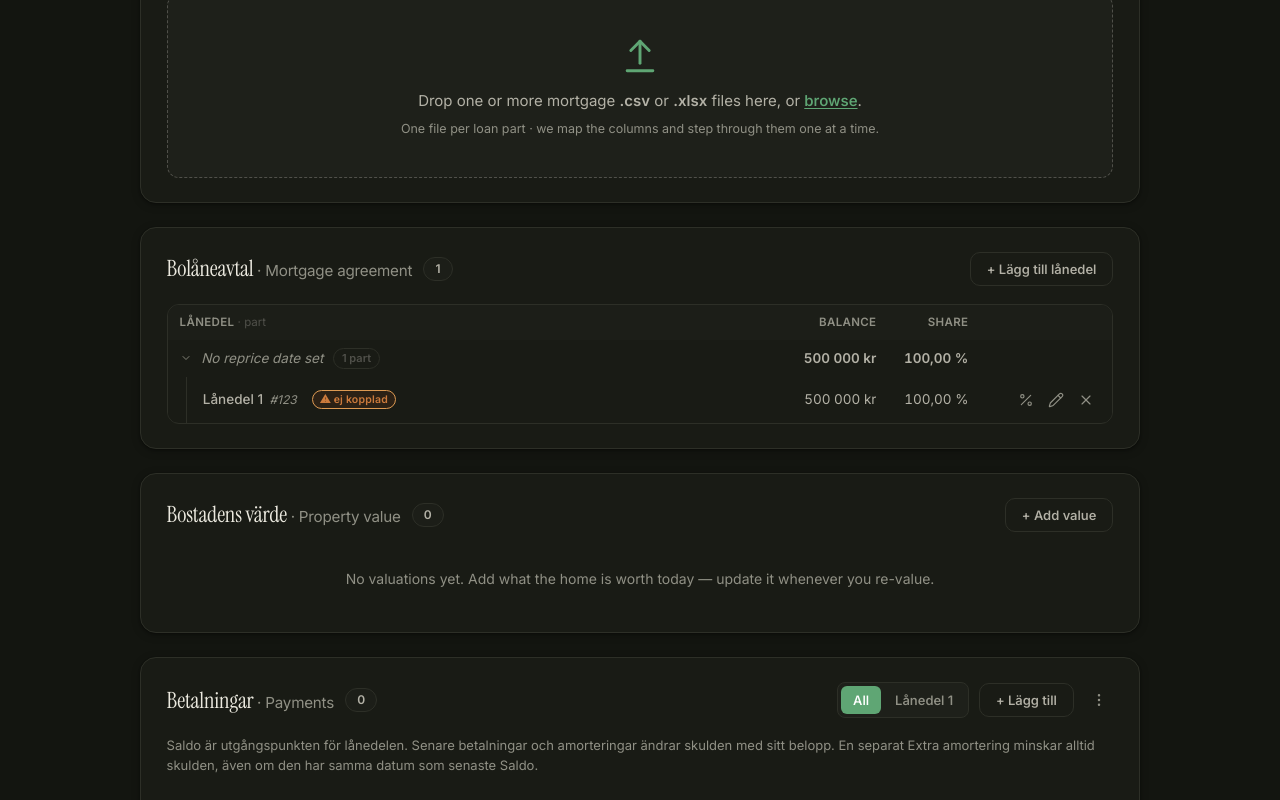
Test case: Bolanekoll — save failures surface to the user (regression for audit H2 / PR #237) › shows the failure and retains the loan part when atomic deletion rejects
(page scrolled)
Click the button named "Ta bort". click: (1086, 400)
box: [1072, 386, 1100, 414]
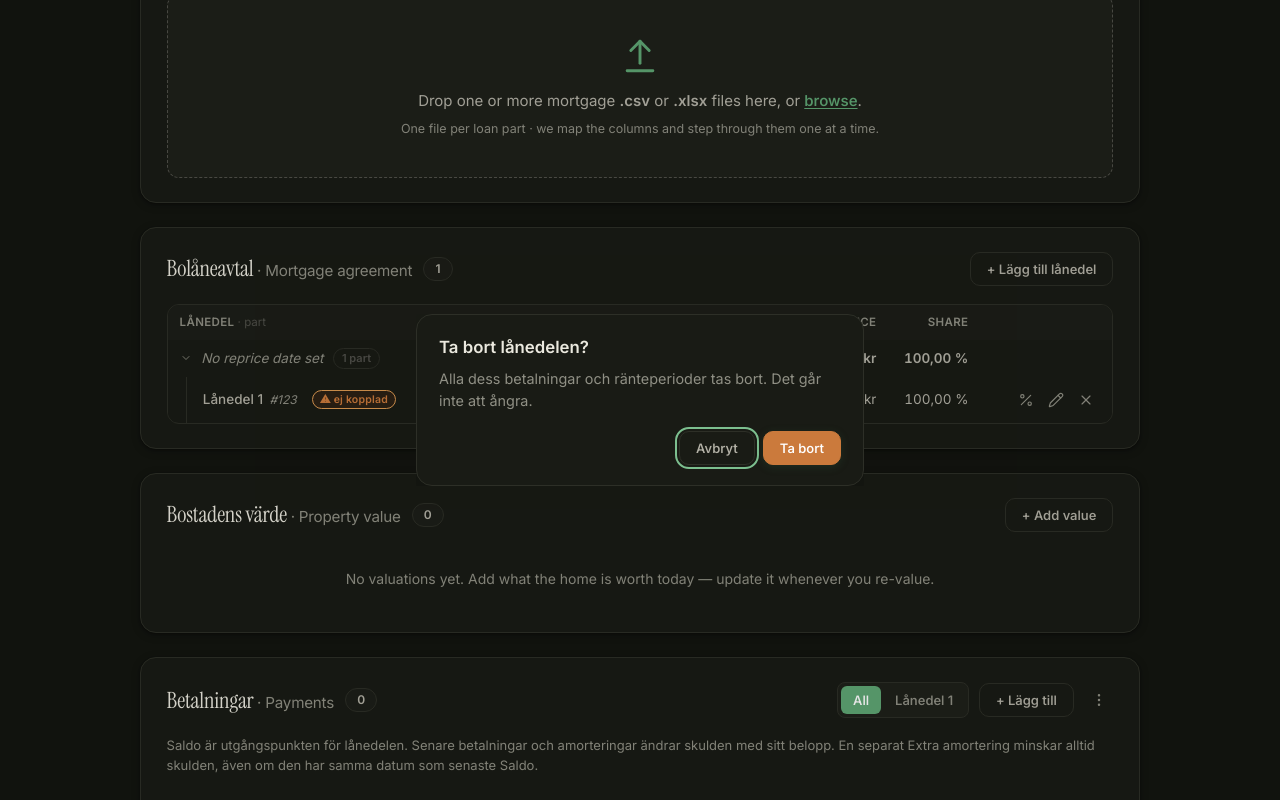
Click the button "Ta bort". click: (802, 448)
box: [763, 431, 841, 465]
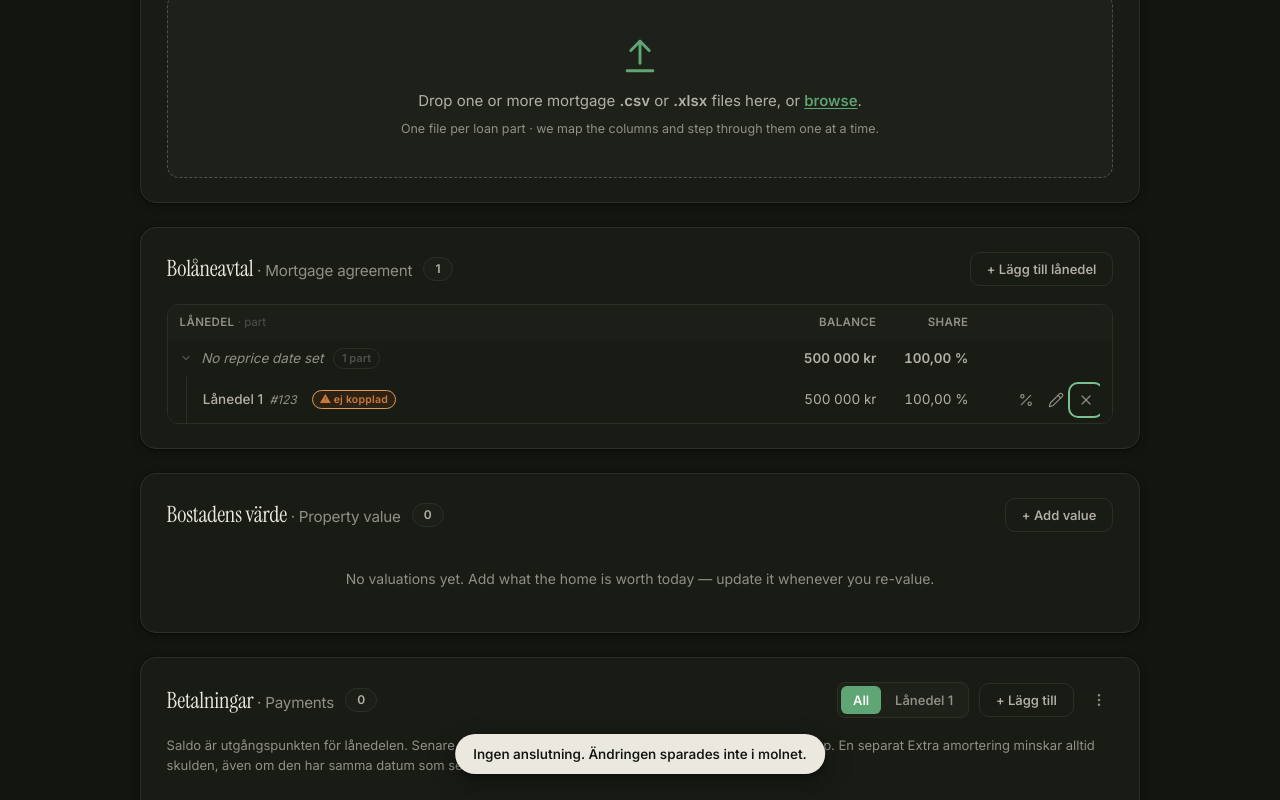
expect the text "Lånedel 1" is shown: met, box [203, 391, 263, 407]
expect the text "Ingen anslutning. Ändringen sparades inte i molnet." is shown: met, box [455, 734, 825, 774]
